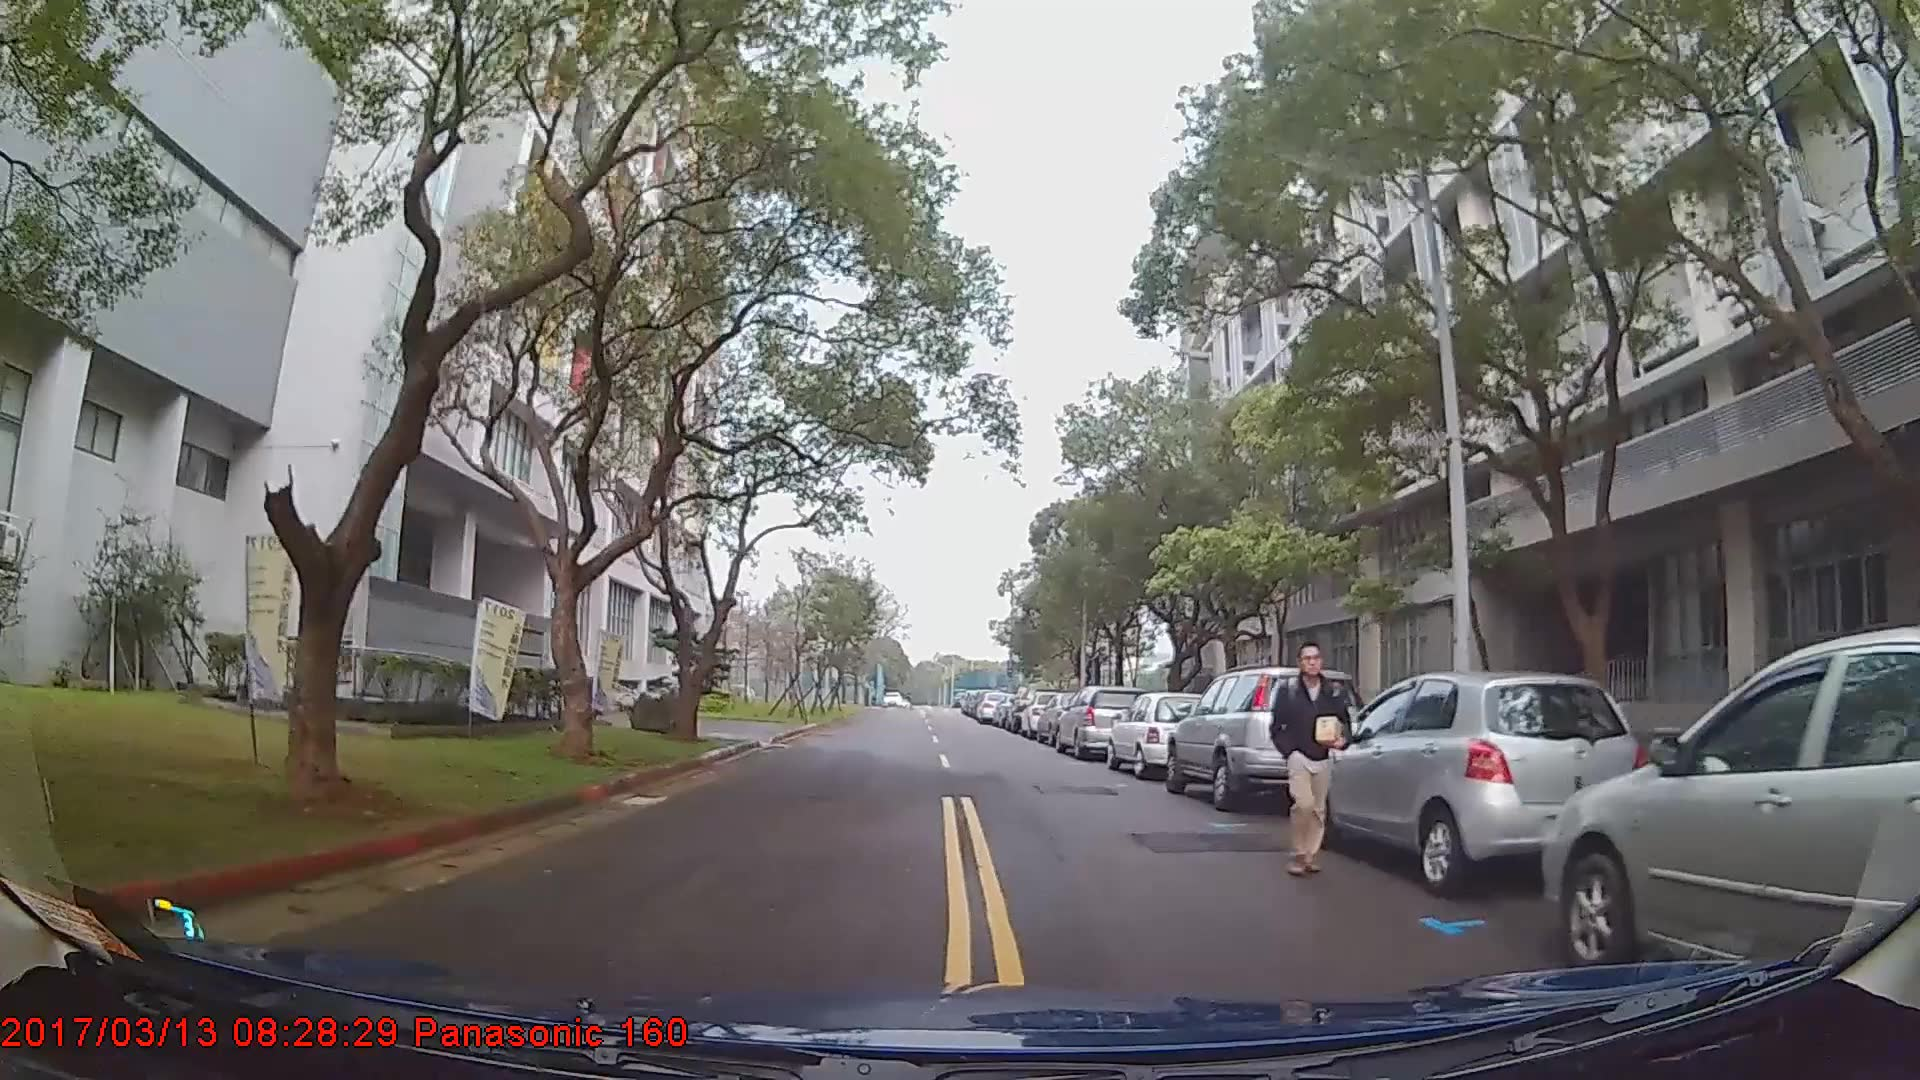pedestrian: (1269, 646, 1355, 879)
vehicle: (1538, 626, 1919, 994), (1302, 663, 1643, 895), (1163, 666, 1370, 808), (1104, 691, 1215, 776), (1053, 685, 1148, 760), (975, 688, 1012, 724)
